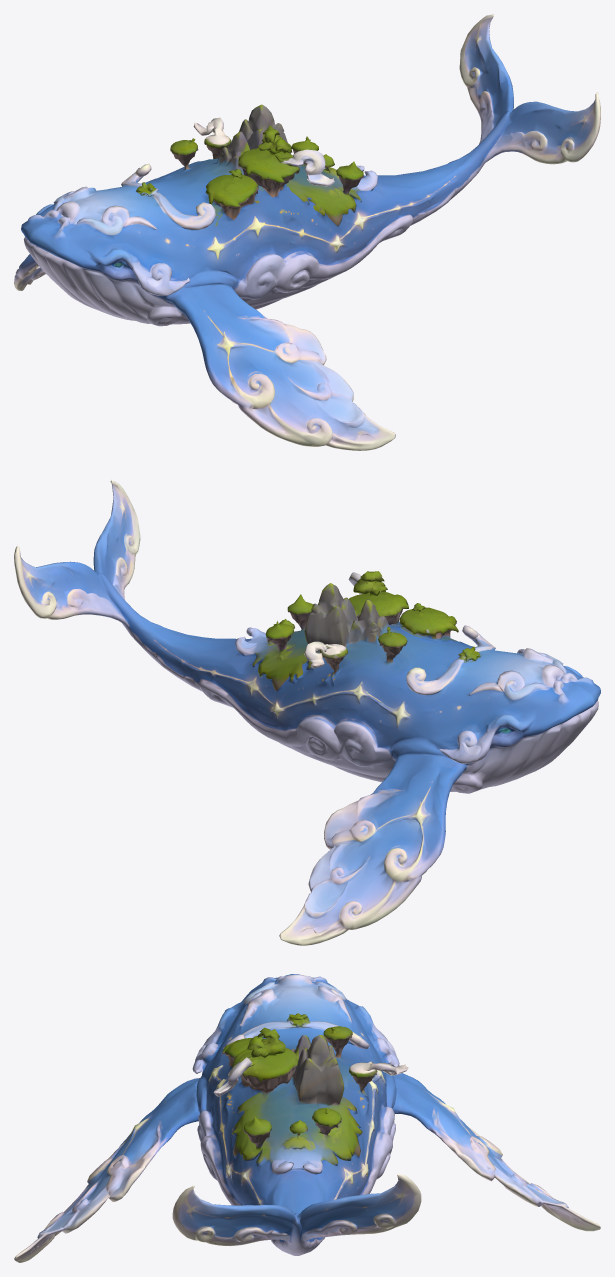
Rendered from gokBalinasi.glb.
3 renders of one model, top to bottom at view 1: azimuth 30°, elevation 25°; view 2: azimuth 150°, elevation 25°; view 3: azimuth 270°, elevation 25°, orthographic. The views are drawn at different scales.
Parts seen in each view (by area): view 1: tripo_node_51293d42-47c6-4971-9408-9ed707d3f6d0; view 2: tripo_node_51293d42-47c6-4971-9408-9ed707d3f6d0; view 3: tripo_node_51293d42-47c6-4971-9408-9ed707d3f6d0.
Part boxes in pixels (x1,y1,x2,y2): tripo_node_51293d42-47c6-4971-9408-9ed707d3f6d0: (14, 14, 600, 450); tripo_node_51293d42-47c6-4971-9408-9ed707d3f6d0: (14, 479, 600, 945); tripo_node_51293d42-47c6-4971-9408-9ed707d3f6d0: (14, 974, 600, 1262).
Bounding box in the file's own units: 0.9815 × 0.4265 × 0.9193.
Materials: 1 (1 with a texture image).
